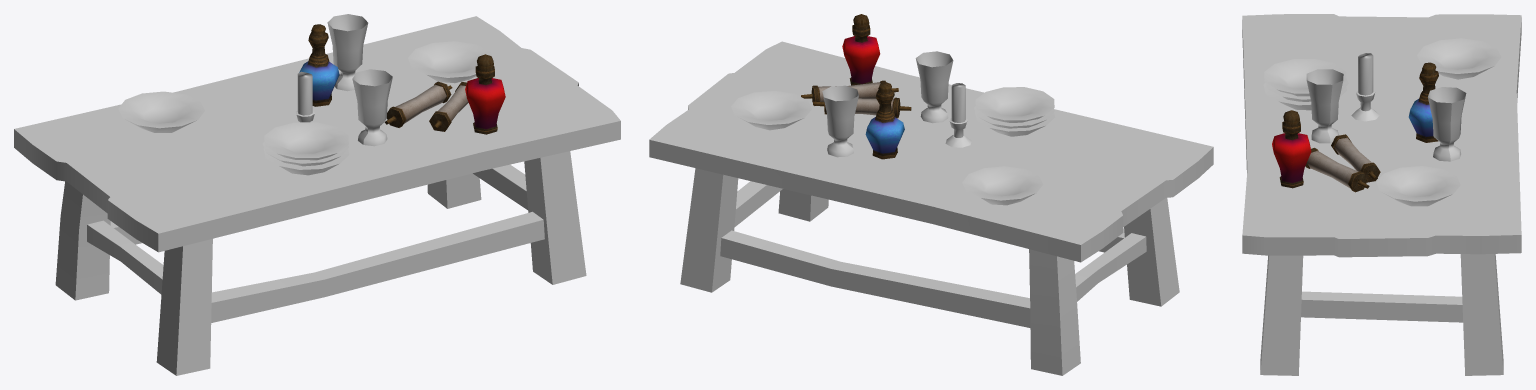
Rendered from Table_05.fbx.
3 views of the same model, side by side, from view 1: azimuth 30°, elevation 25°; view 2: azimuth 150°, elevation 25°; view 3: azimuth 270°, elevation 25° (orthographic). The views are drawn at different scales.
Visible parts, largest first — view 1: Table_05; view 2: Table_05; view 3: Table_05.
Boxes of the visible parts, x1,y1,x2,y2 form: Table_05: (14, 14, 620, 375); Table_05: (649, 14, 1213, 375); Table_05: (1242, 14, 1521, 375).
Size of the model in its own units: 2.49 by 1.17 by 1.31.
